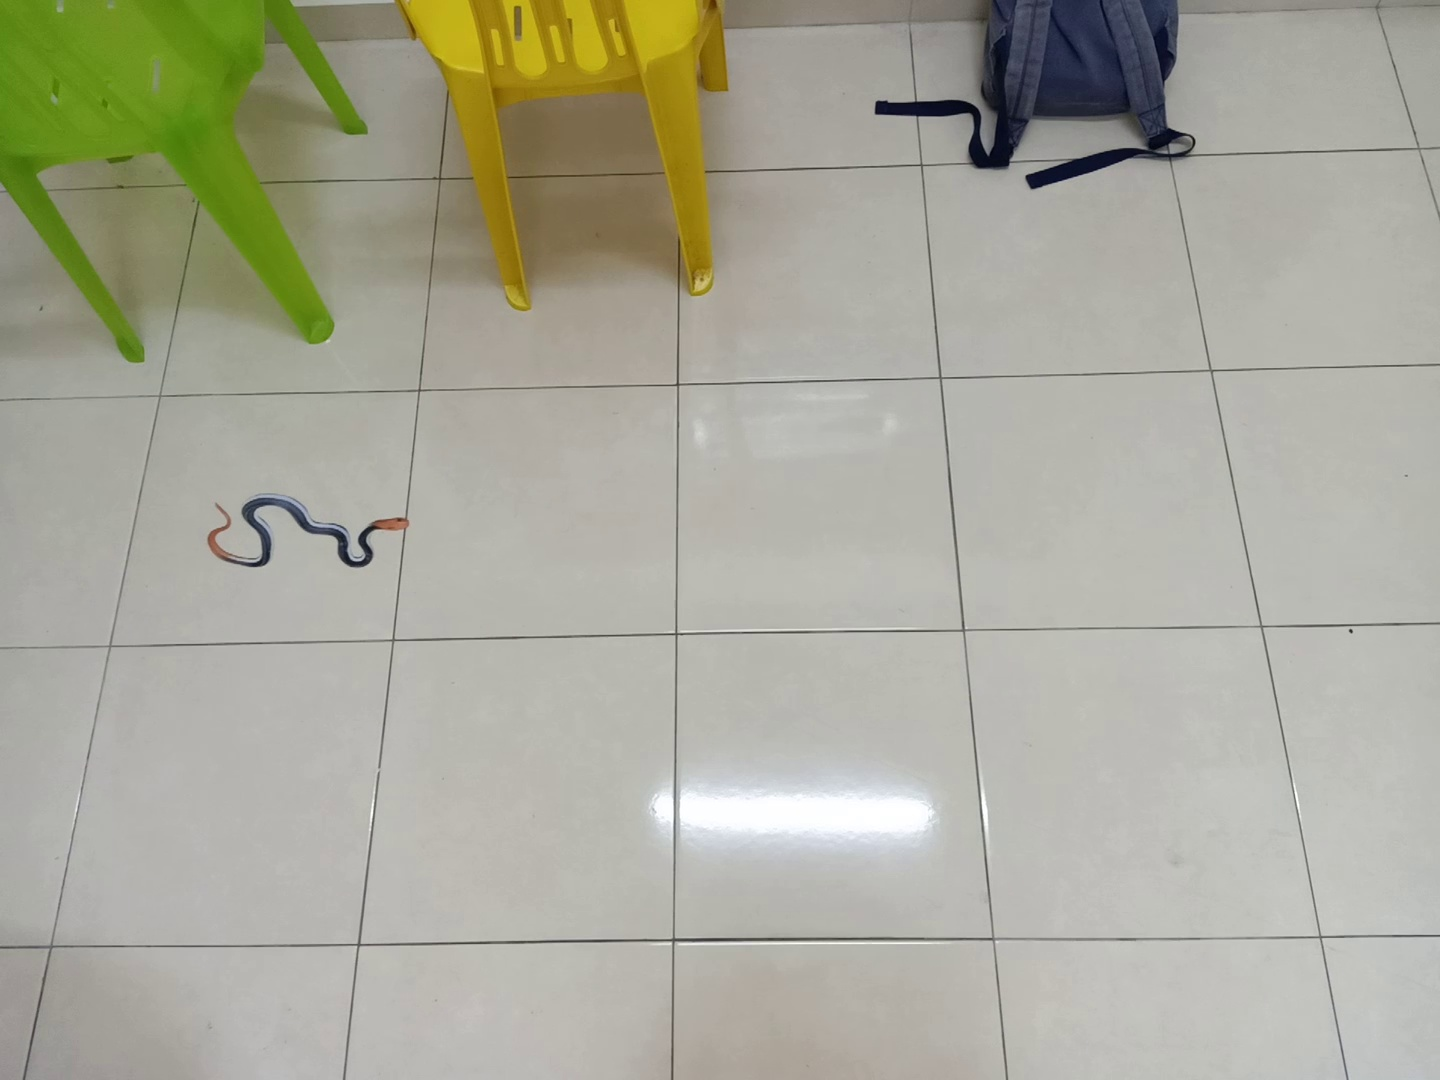snake: (200, 486, 417, 575)
